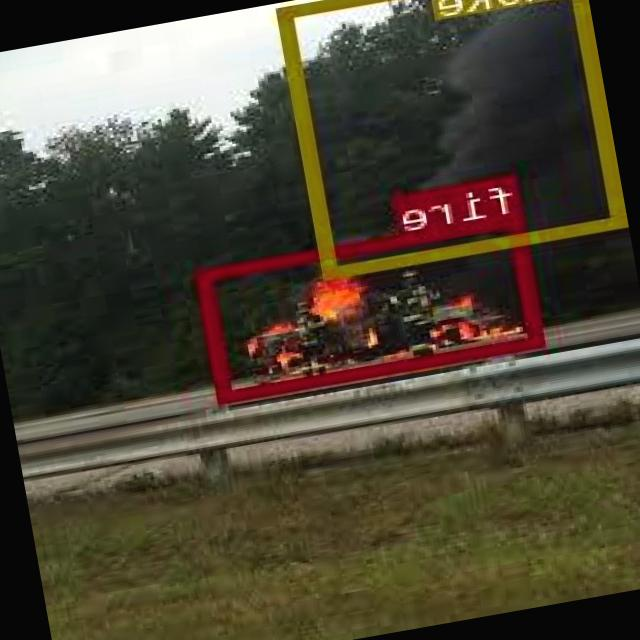fire: (198, 210, 546, 400)
smoke: (278, 0, 628, 277)
